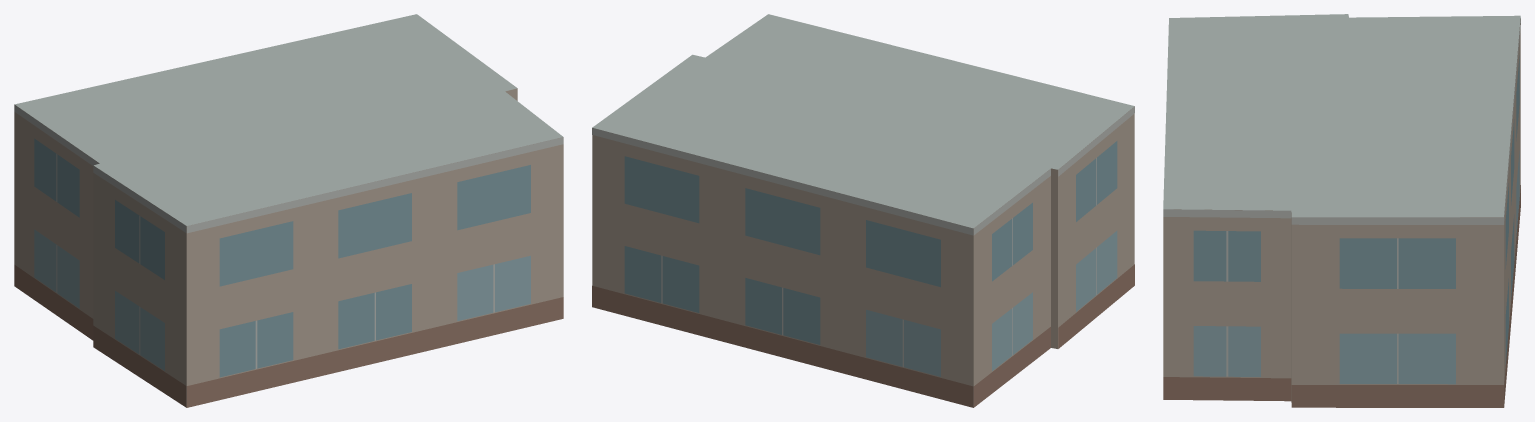
Rendered from survey-upis-32958459.glb.
The picture shows the model from 3 angles, left to right: view 1: azimuth 30°, elevation 25°; view 2: azimuth 150°, elevation 25°; view 3: azimuth 270°, elevation 25°; orthographic projection. The views are drawn at different scales.
Parts seen in each view (by area): view 1: survey-upis-32958459.tmp; view 2: survey-upis-32958459.tmp; view 3: survey-upis-32958459.tmp.
Part boxes in pixels (x1,y1,x2,y2): survey-upis-32958459.tmp: (14, 14, 563, 407); survey-upis-32958459.tmp: (592, 14, 1134, 407); survey-upis-32958459.tmp: (1163, 14, 1520, 407).
Bounding box in the file's own units: 13.98 × 6.1 × 10.39.
